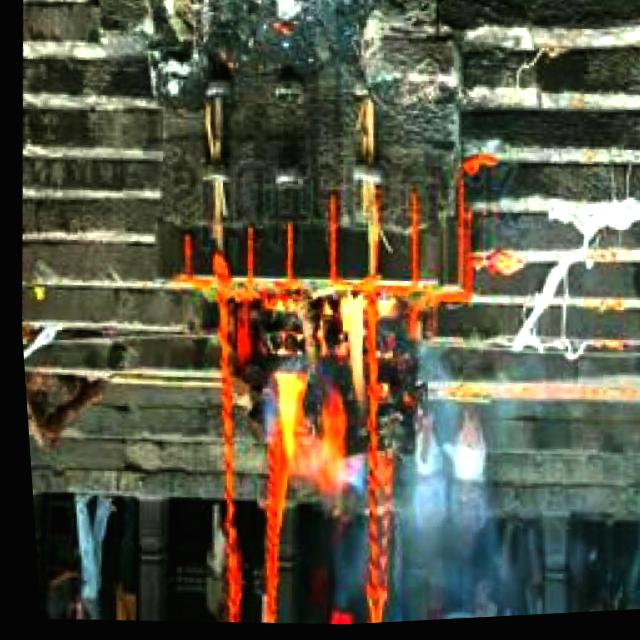Fire: (258, 287, 376, 505)
